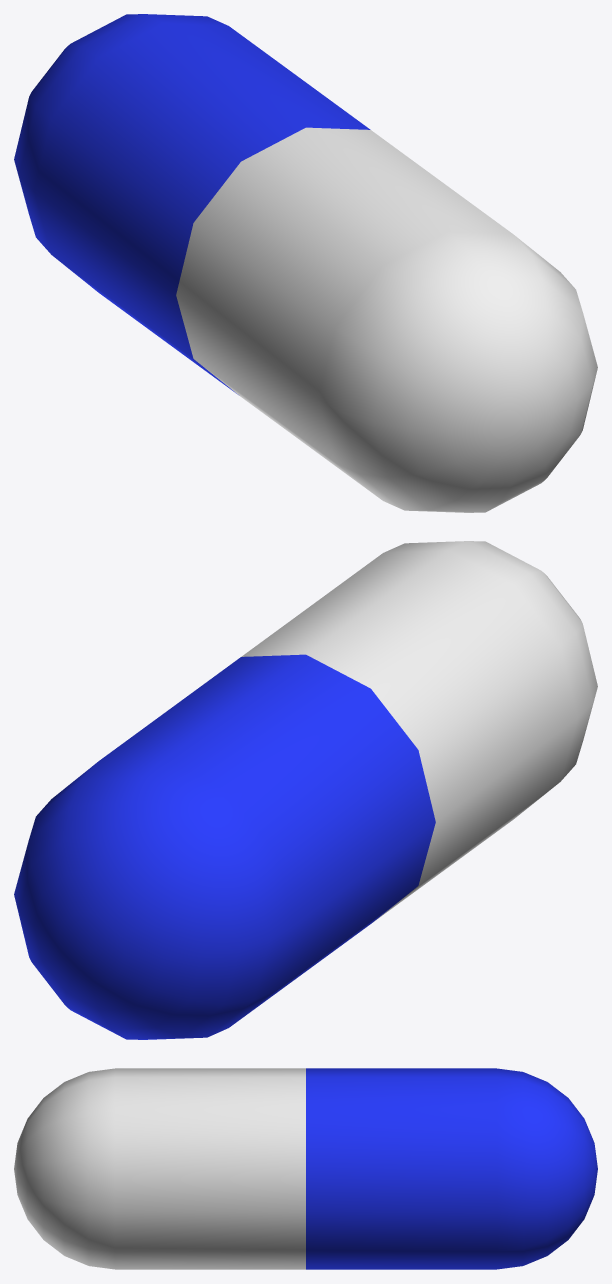
Rendered from Pillule_Bleu.fbx.
3 views of the same model, one above another, from view 1: azimuth 30°, elevation 25°; view 2: azimuth 150°, elevation 25°; view 3: azimuth 270°, elevation 25° (orthographic). The views are drawn at different scales.
Parts seen in each view (by area): view 1: Pillule_Bleu; view 2: Pillule_Bleu; view 3: Pillule_Bleu.
Boxes of the visible parts, left/top/right/bottom form: Pillule_Bleu: left=14, top=14, right=597, bottom=512; Pillule_Bleu: left=14, top=541, right=597, bottom=1039; Pillule_Bleu: left=14, top=1068, right=597, bottom=1269.
Bounding box in the file's own units: 1.13 × 1.13 × 3.27.
